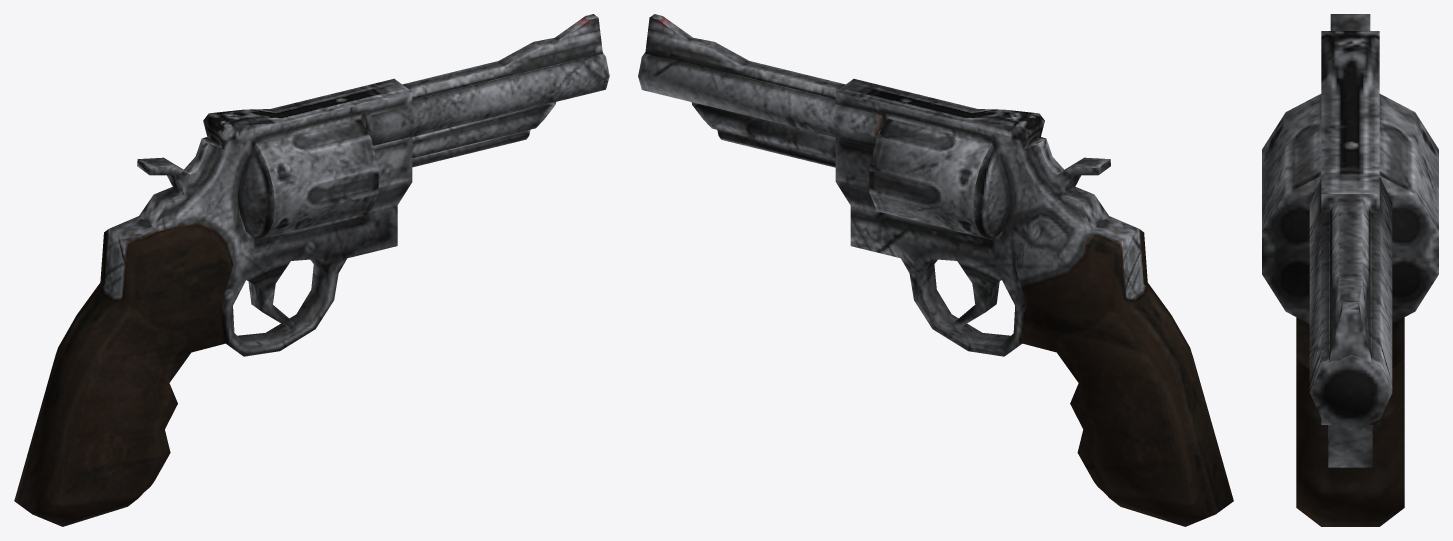
The model's file is SM_Gun44.FBX.
3 renders of one model, left to right at view 1: azimuth 30°, elevation 25°; view 2: azimuth 150°, elevation 25°; view 3: azimuth 270°, elevation 25°, orthographic. The views are drawn at different scales.
Parts seen in each view (by area): view 1: SM_Gun44; view 2: SM_Gun44; view 3: SM_Gun44.
Boxes of the visible parts, x1,y1,x2,y2 form: SM_Gun44: (14, 14, 609, 526); SM_Gun44: (638, 14, 1233, 526); SM_Gun44: (1262, 14, 1438, 526).
Bounding box in the file's own units: 29.72 × 18.42 × 4.92.
